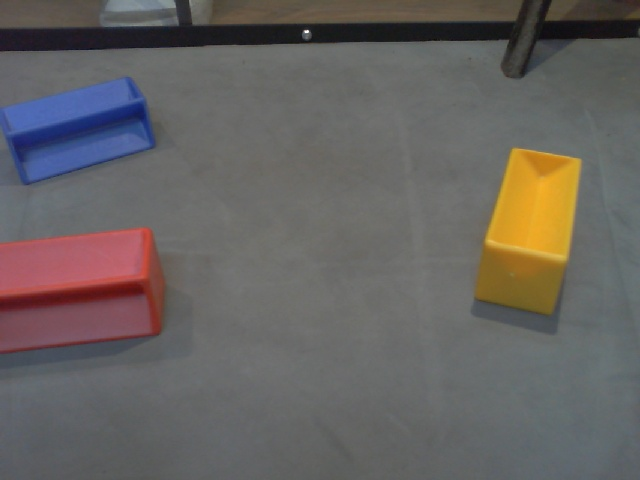BlueSample: (6, 76, 159, 186)
RedSample: (1, 225, 166, 357)
YellowSample: (469, 143, 584, 319)
